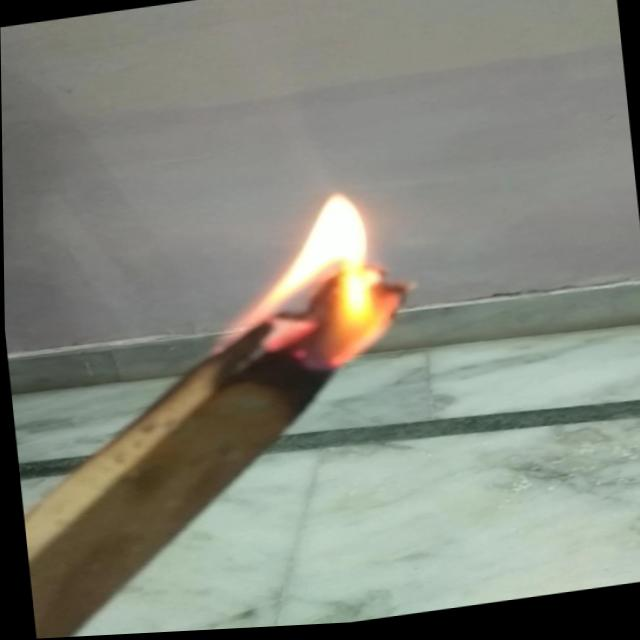fire: (184, 182, 420, 400)
